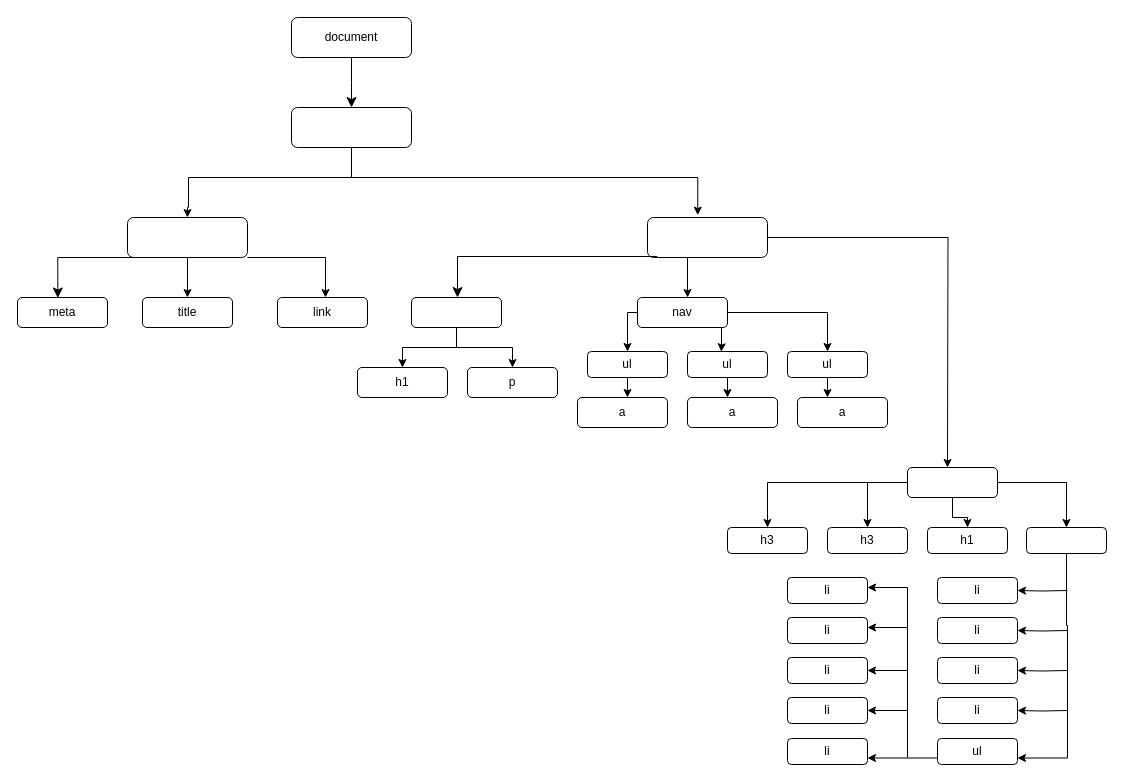
This 1124x784 diagram has some shape labels left out. The shapes that lost their labels are listed below. From the top down, each one's centre as x and y in pixels, then its label:
At pixel 351 127: "html".
At pixel 187 237: "head".
At pixel 707 237: "body".
At pixel 456 312: "header".
At pixel 952 482: "main".
At pixel 1066 540: "ol".
